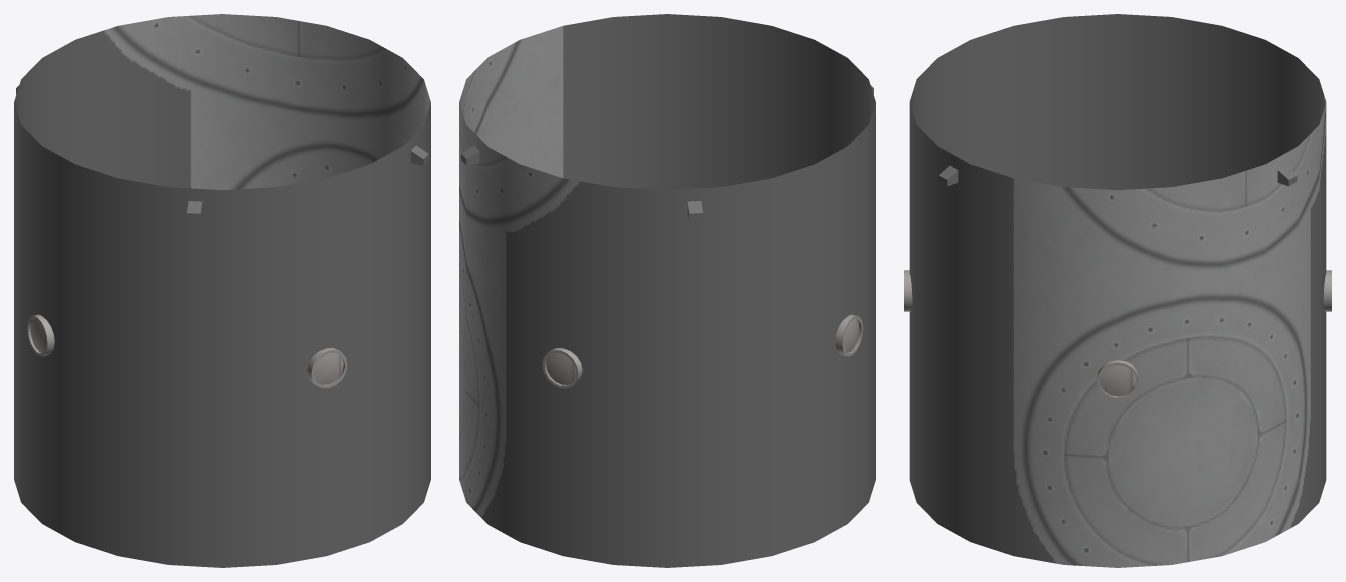
The model's file is vega_crew_s1p5_1_1.obj.
3 views of the same model, side by side, from view 1: azimuth 30°, elevation 25°; view 2: azimuth 150°, elevation 25°; view 3: azimuth 270°, elevation 25° (orthographic).
Visible parts, largest first — view 1: mesh1, windows1; view 2: mesh1, windows1; view 3: mesh1, windows1.
Boxes of the visible parts, box(x1,y1,x2,y2) form: mesh1: box(14, 14, 430, 567); windows1: box(30, 319, 343, 384); mesh1: box(459, 14, 875, 567); windows1: box(546, 319, 859, 384); mesh1: box(904, 14, 1331, 567); windows1: box(1100, 365, 1135, 396).
Size of the model in its own units: 1.92 by 1.88 by 1.92.
